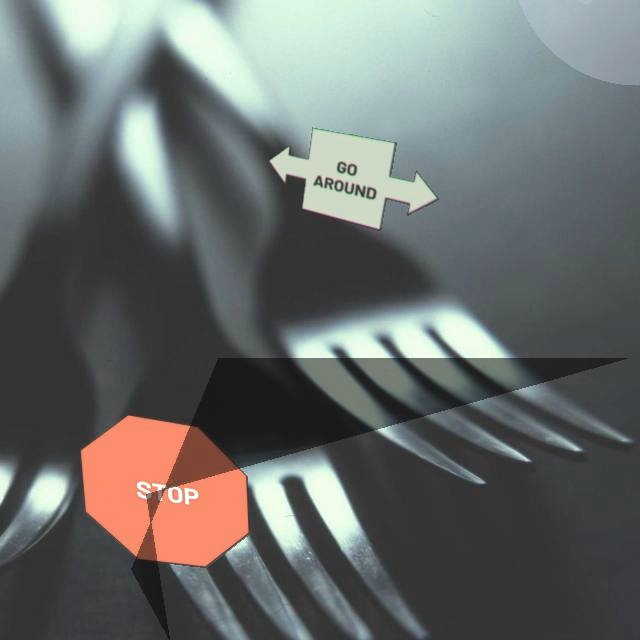GO_AROUND: (268, 127, 439, 231)
STOP: (79, 414, 250, 568)
